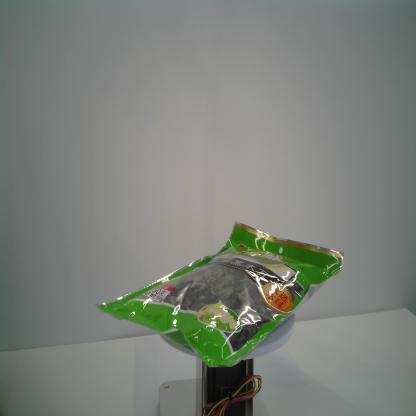Dried Food: (94, 219, 345, 369)
